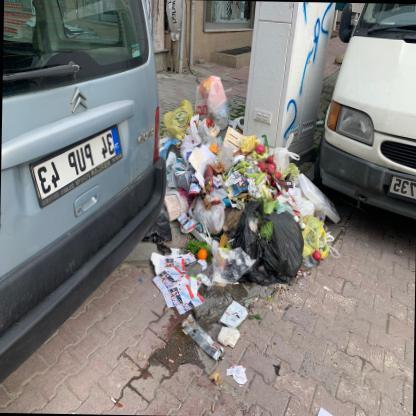Garbage: (145, 225, 271, 357), (181, 174, 310, 268), (169, 138, 249, 260), (204, 151, 286, 225), (245, 189, 324, 257), (165, 74, 225, 160), (228, 361, 252, 386)
